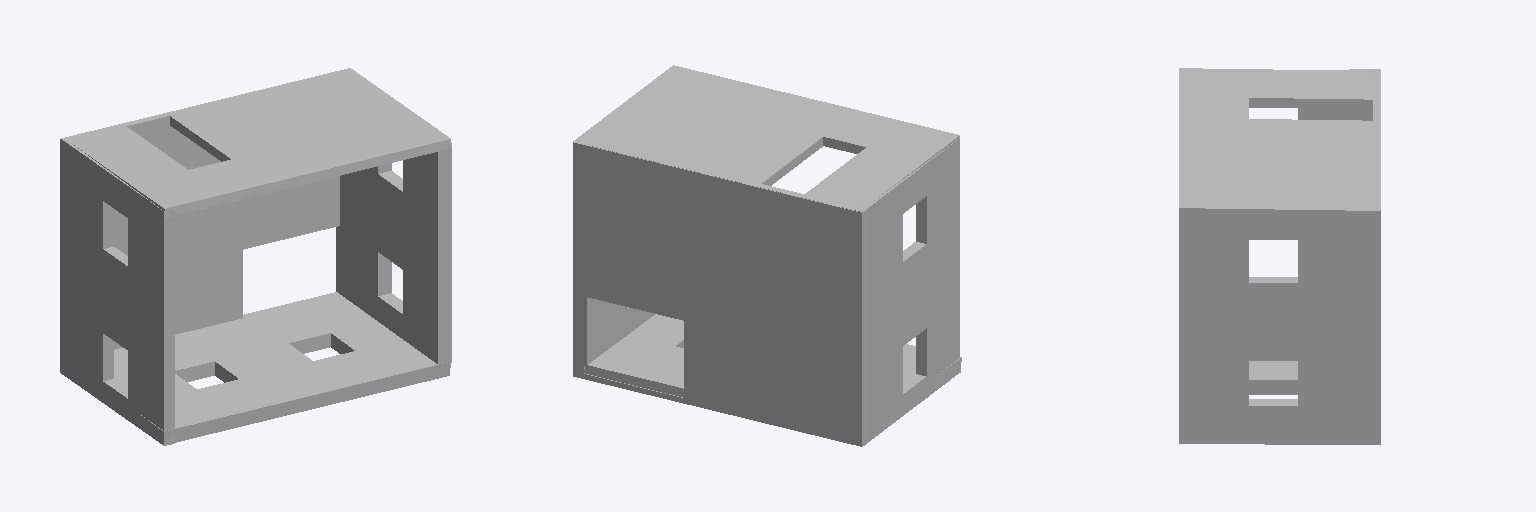
Rendered from room3.obj.
3 renders of one model, left to right at view 1: azimuth 30°, elevation 25°; view 2: azimuth 150°, elevation 25°; view 3: azimuth 270°, elevation 25°, orthographic.
Visible parts, largest first — view 1: obj_0; view 2: obj_0; view 3: obj_0.
Boxes of the visible parts, <box> form: obj_0: <box>60,68,451,445</box>; obj_0: <box>573,65,961,446</box>; obj_0: <box>1179,68,1380,444</box>.
Size of the model in its own units: 136 by 107 by 82.73.